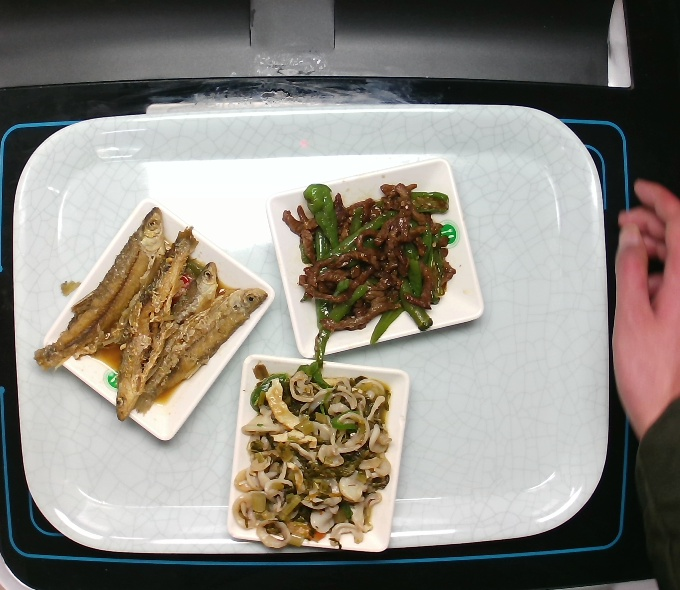wcq-QingJiaoNiuRou: (275, 171, 464, 359)
wcq-XiaoXiYu: (35, 199, 270, 430)
wcq-XueCaiYouYu: (226, 354, 418, 551)
